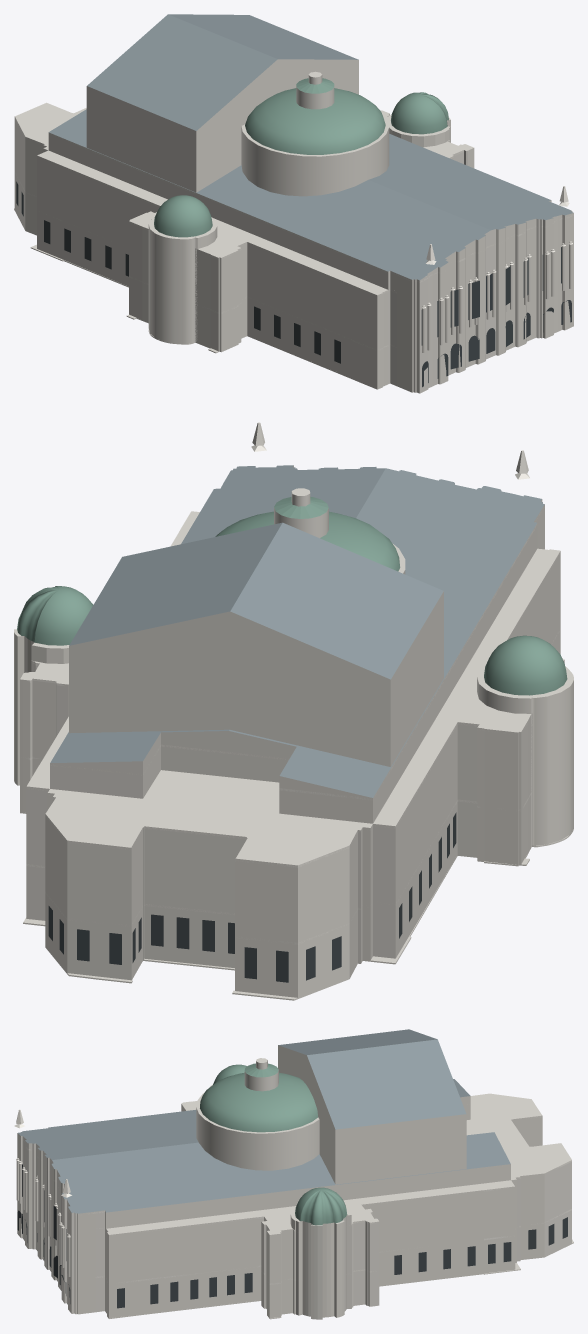
3 views of the same model, one above another, from view 1: azimuth 30°, elevation 25°; view 2: azimuth 150°, elevation 25°; view 3: azimuth 270°, elevation 25° (orthographic). The views are drawn at different scales.
Parts seen in each view (by area): view 1: stone, roof, metal, recess, trim; view 2: stone, roof, metal, recess, trim; view 3: stone, roof, metal, recess, trim.
Boxes of the visible parts, x1,y1,x2,y2 form: stone: (14, 59, 573, 393); roof: (49, 14, 573, 280); metal: (154, 78, 448, 237); recess: (16, 181, 571, 387); trim: (14, 117, 573, 350); stone: (14, 465, 573, 1000); roof: (50, 465, 544, 797); metal: (17, 496, 567, 695); recess: (48, 812, 456, 982); trim: (26, 422, 564, 944); stone: (16, 1045, 573, 1319); roof: (18, 1029, 510, 1213); metal: (200, 1063, 347, 1225); recess: (17, 1164, 567, 1308); trim: (14, 1104, 571, 1284).
Bounding box in the file's own units: 98.16 × 58 × 157.
